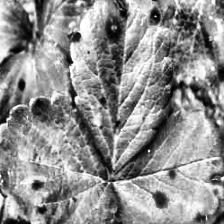Leaf Spot: (68, 0, 174, 177), (0, 91, 118, 224), (110, 108, 224, 224)
